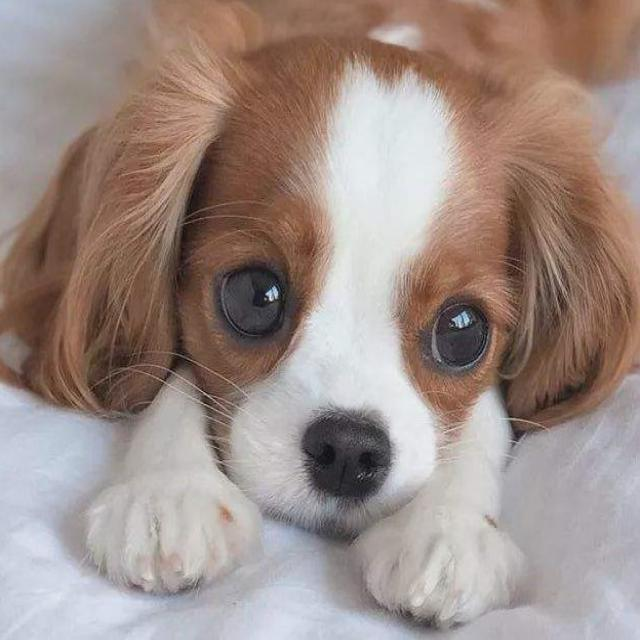eye: (211, 257, 295, 349), (421, 285, 499, 379)
